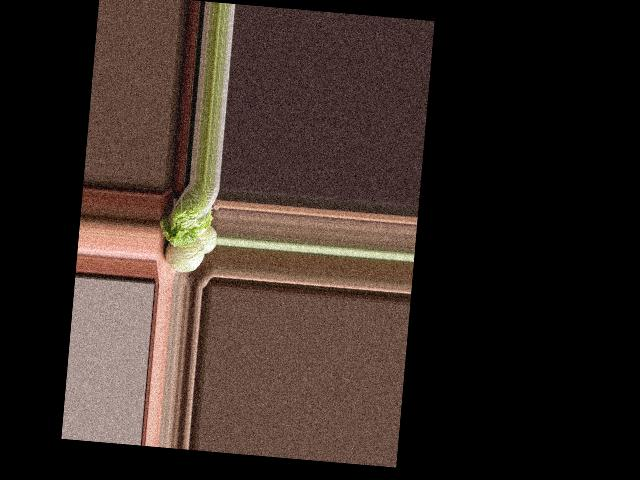lettuce: (157, 181, 217, 249)
